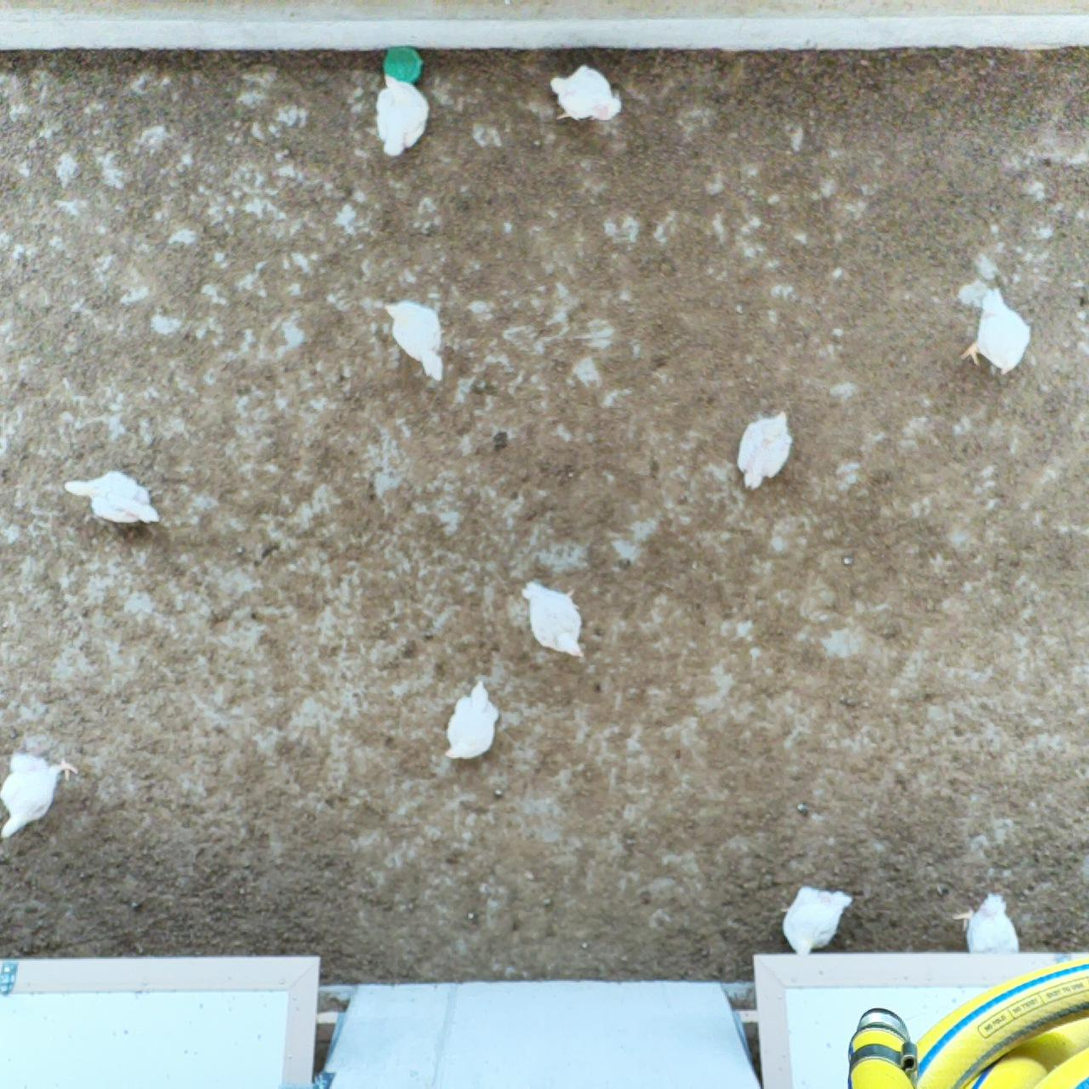chicken: (0, 747, 83, 845), (959, 285, 1036, 377), (62, 463, 163, 529), (518, 577, 589, 664), (381, 297, 450, 386), (371, 72, 436, 162), (780, 882, 856, 957), (442, 676, 503, 765), (543, 60, 626, 125), (736, 407, 796, 493), (950, 888, 1023, 957)
